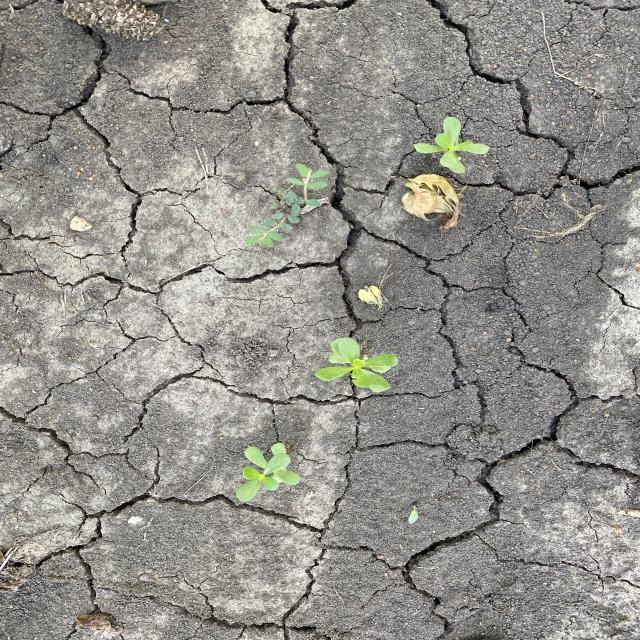Purslane: (314, 336, 402, 397), (412, 113, 492, 175), (235, 442, 302, 502)
SpottedSpurge: (240, 161, 332, 256)
